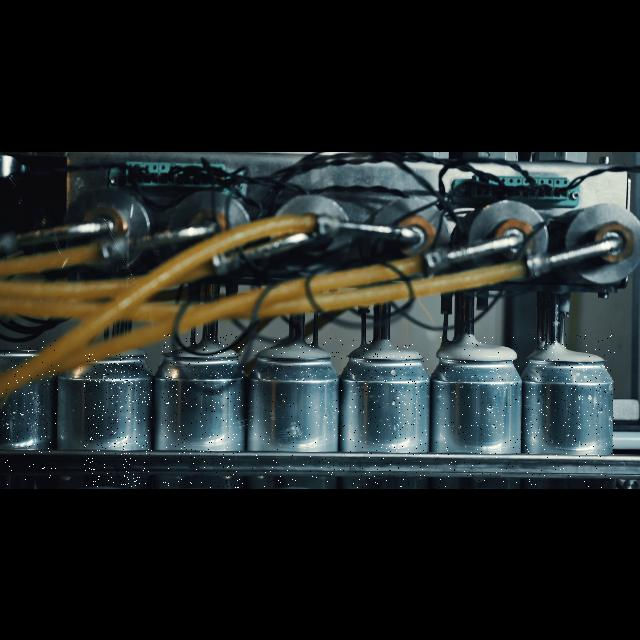empty: (84, 354, 152, 488), (1, 340, 59, 488)
full: (251, 338, 345, 488), (525, 334, 615, 488), (435, 336, 519, 488), (162, 334, 244, 488), (350, 340, 428, 488)
